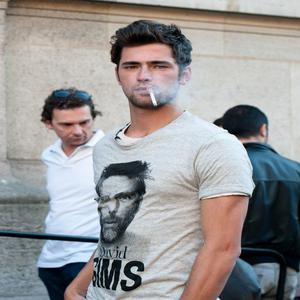cigarette: (147, 85, 158, 109)
